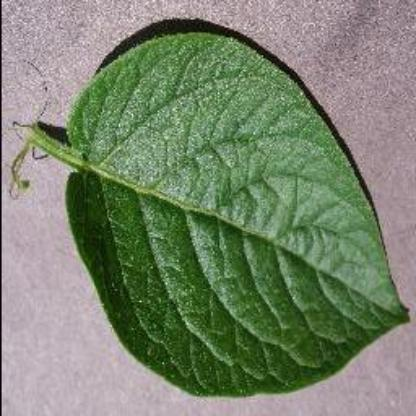Healthy-plant: (22, 24, 410, 404)
